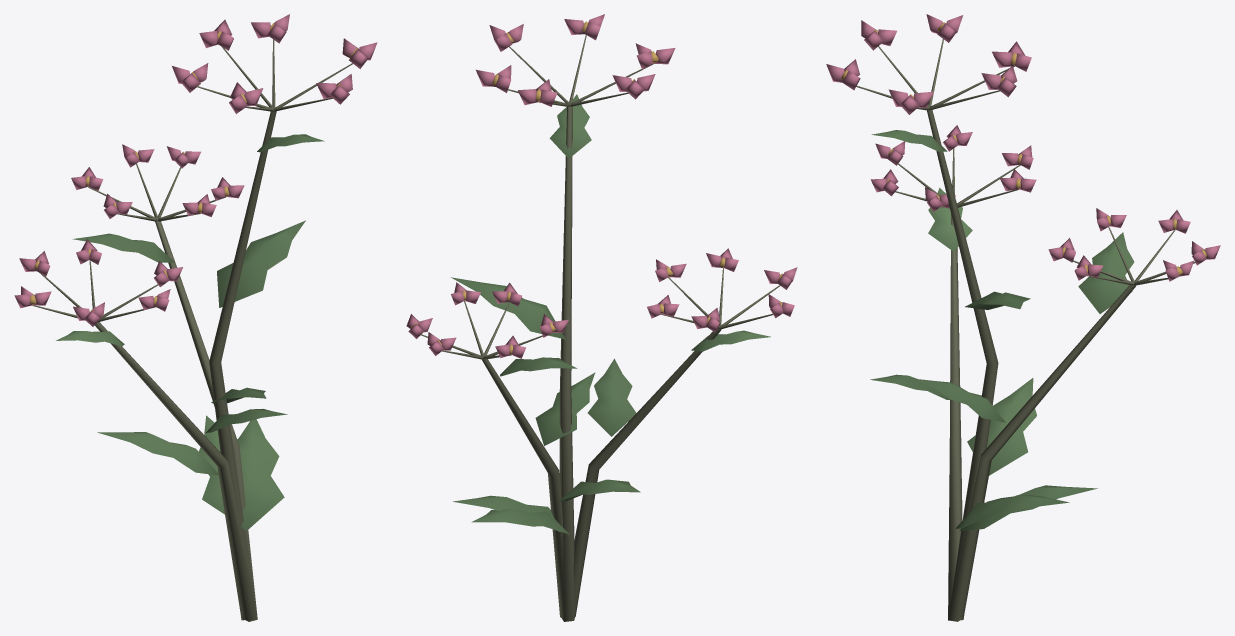
File: pink_yarrow.glb
3 renders of one model, left to right at view 1: azimuth 30°, elevation 25°; view 2: azimuth 150°, elevation 25°; view 3: azimuth 270°, elevation 25°, orthographic. The views are drawn at different scales.
Visible parts, largest first — view 1: pink_yarrow; view 2: pink_yarrow; view 3: pink_yarrow.
Boxes of the visible parts, x1=… form: pink_yarrow: x1=14, y1=14, x2=377, y2=621; pink_yarrow: x1=406, y1=14, x2=797, y2=621; pink_yarrow: x1=826, y1=14, x2=1220, y2=621.
Size of the model in its own units: 0.4402 by 0.7064 by 0.4441.
